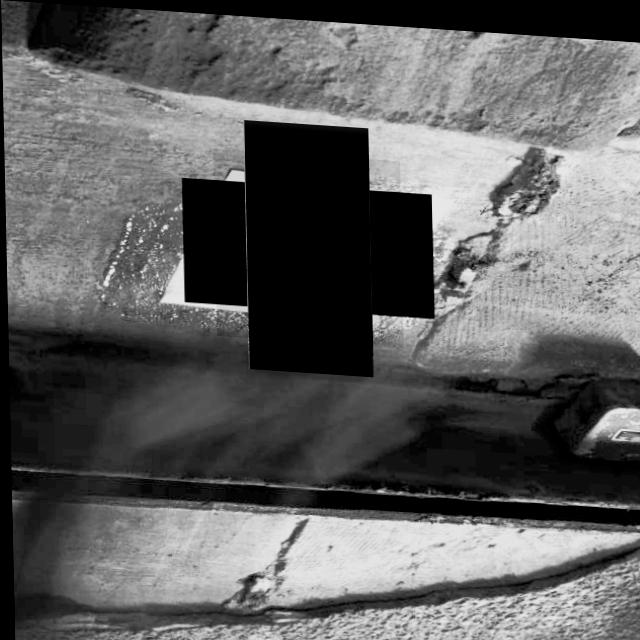qr_code: (211, 146, 402, 343)
